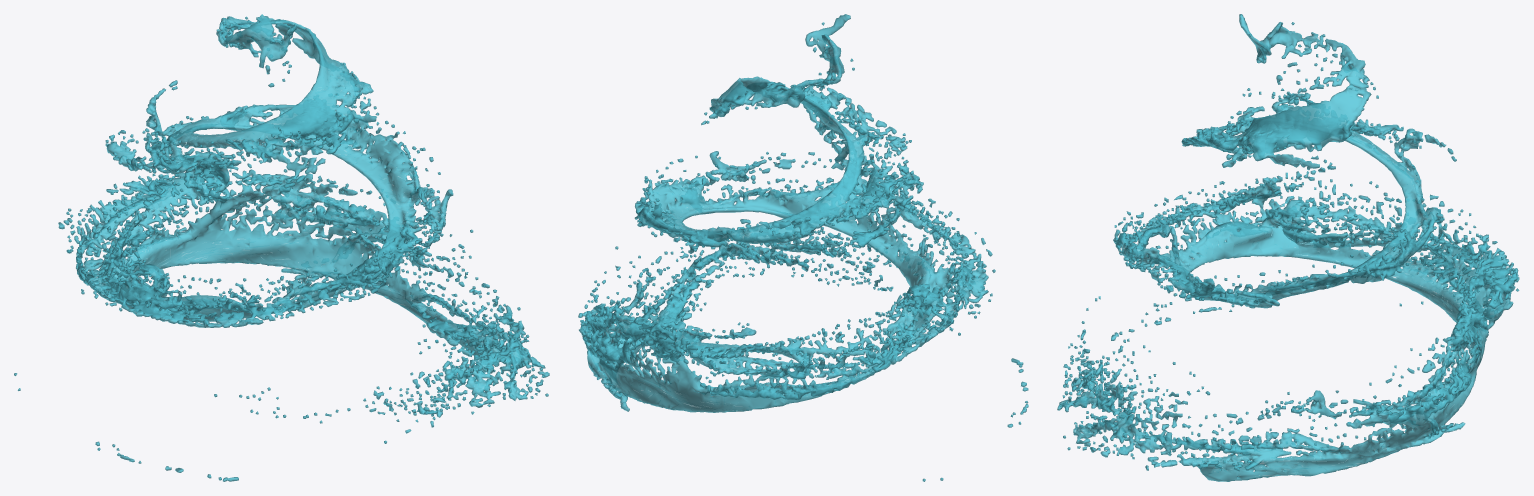
File: Niflheim_Water_Spiral.glb
The picture shows the model from 3 angles, left to right: view 1: azimuth 30°, elevation 25°; view 2: azimuth 150°, elevation 25°; view 3: azimuth 270°, elevation 25°; orthographic projection. The views are drawn at different scales.
Visible parts, largest first — view 1: Liquid; view 2: Liquid; view 3: Liquid.
Part boxes in pixels (box(x1,y1,x2,y2)): Liquid: box(14, 14, 549, 481); Liquid: box(578, 14, 1028, 481); Liquid: box(1057, 14, 1519, 481).
Bounding box in the file's own units: 5.11 × 4.69 × 5.19.
